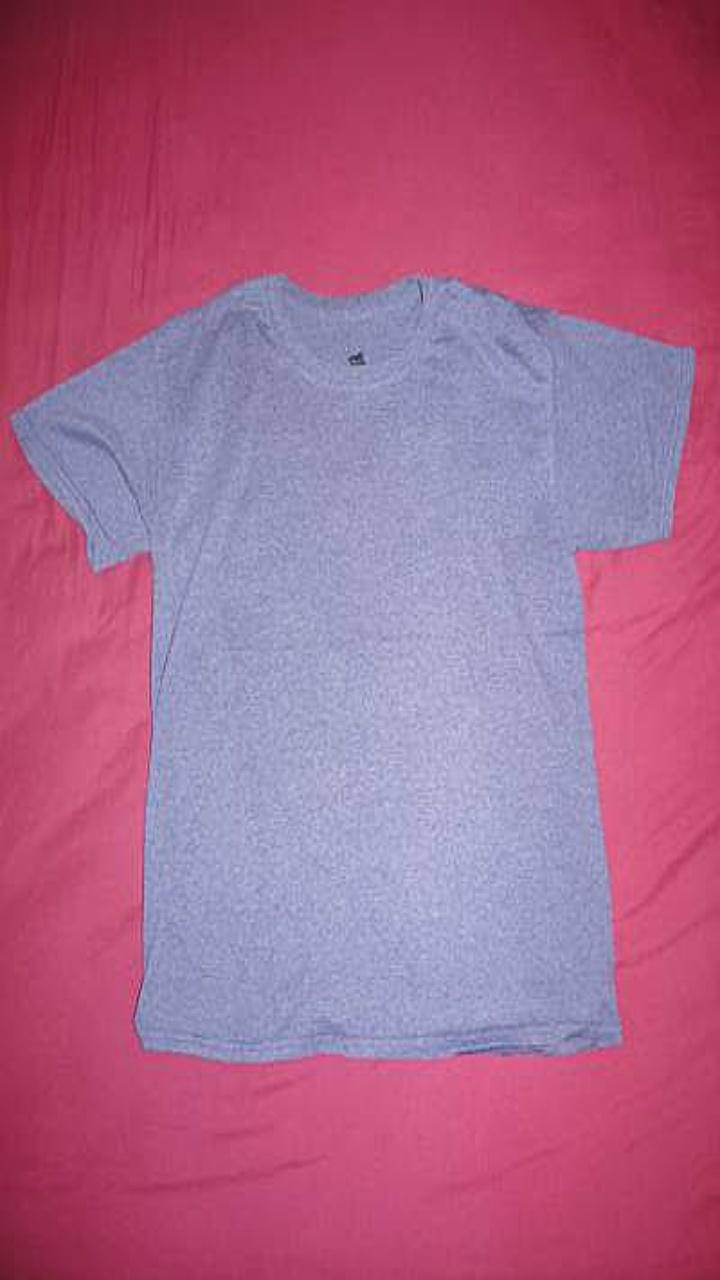T-Shirt: (10, 274, 694, 1061)
